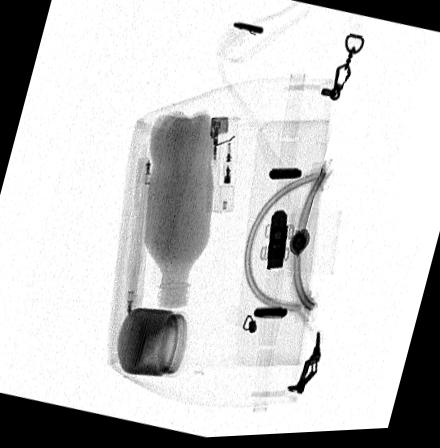Lighter: (203, 119, 240, 216)
